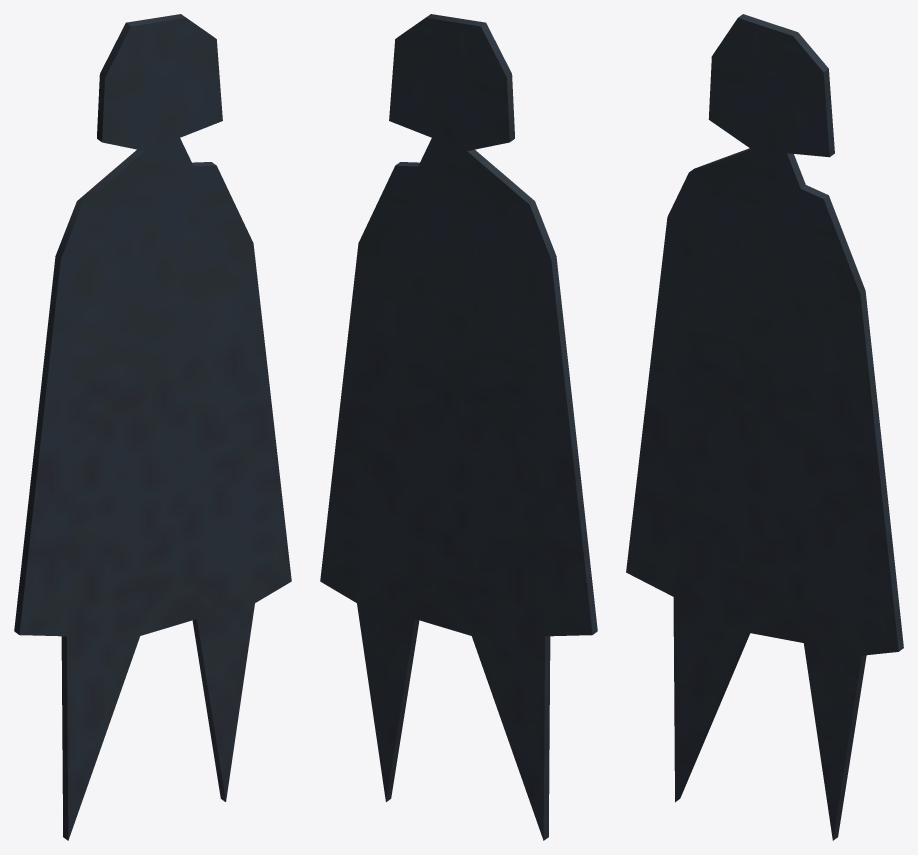
Rendered from Guy.fbx.
3 views of the same model, side by side, from view 1: azimuth 30°, elevation 25°; view 2: azimuth 150°, elevation 25°; view 3: azimuth 330°, elevation 25° (orthographic).
Parts seen in each view (by area): view 1: Plane; view 2: Plane; view 3: Plane.
Part boxes in pixels (left/top/right/bottom): Plane: left=14, top=14, right=291, bottom=840; Plane: left=320, top=14, right=597, bottom=840; Plane: left=626, top=14, right=903, bottom=840.
Size of the model in its own units: 147 by 411 by 4.85.
